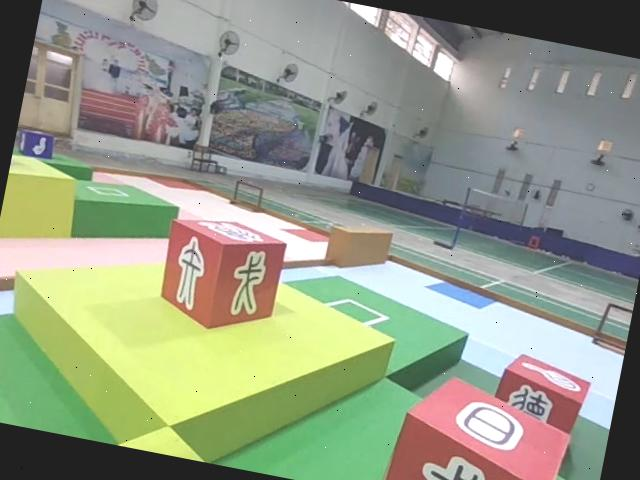R2 Fake: (374, 362, 575, 480), (152, 208, 289, 340), (484, 346, 594, 460)
